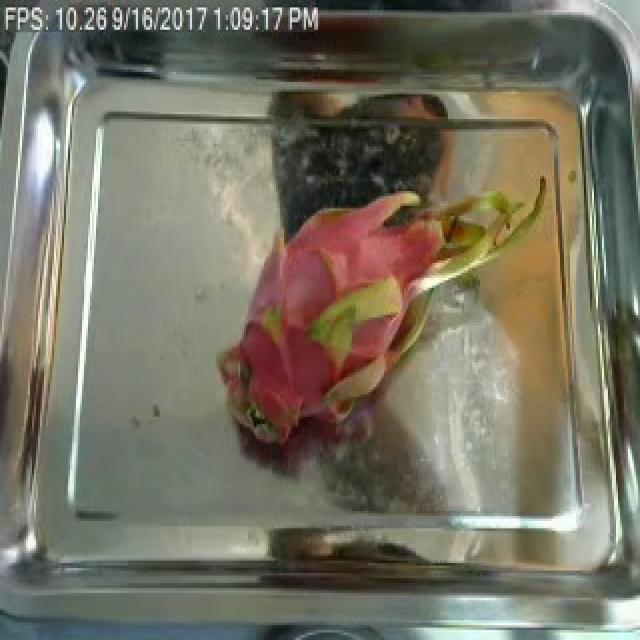fruit: (220, 149, 532, 461)
